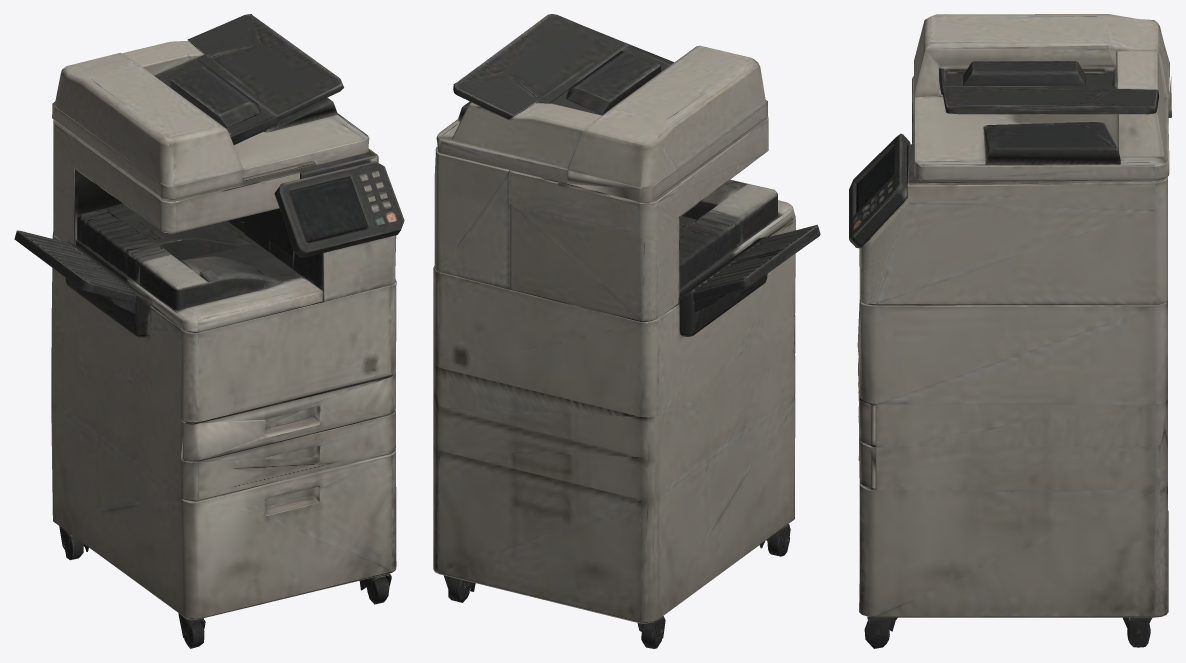
The model's file is p7-office-copier-t25.glb.
3 views of the same model, side by side, from view 1: azimuth 30°, elevation 25°; view 2: azimuth 150°, elevation 25°; view 3: azimuth 270°, elevation 25° (orthographic). The views are drawn at different scales.
Visible parts, largest first — view 1: p7-office-copier-t25; view 2: p7-office-copier-t25; view 3: p7-office-copier-t25.
Part boxes in pixels (<box>): p7-office-copier-t25: <box>14,14,404,648</box>; p7-office-copier-t25: <box>433,14,820,648</box>; p7-office-copier-t25: <box>849,14,1171,648</box>.
Bounding box in the file's own units: 0.698 × 1.2 × 0.65.
Materials: 1 (1 with a texture image).
